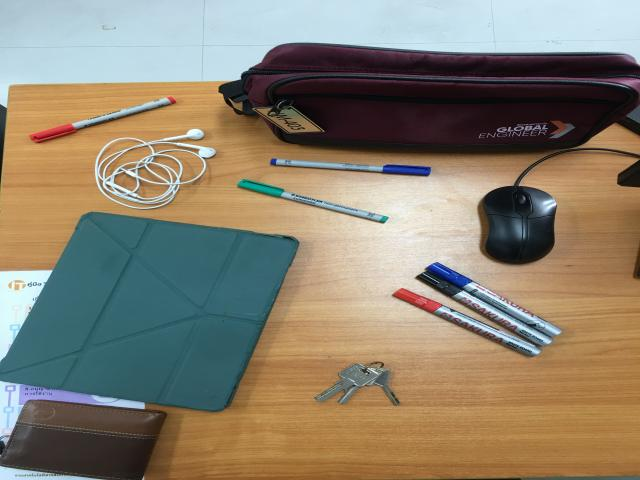Keys: (315, 364, 399, 406)
Mouse: (477, 185, 559, 268)
Pen: (427, 262, 563, 337), (417, 271, 553, 346), (393, 289, 542, 356), (236, 180, 390, 226), (29, 97, 178, 144), (268, 157, 433, 179)
Wallet: (0, 399, 166, 480)
wire: (88, 129, 217, 211)
